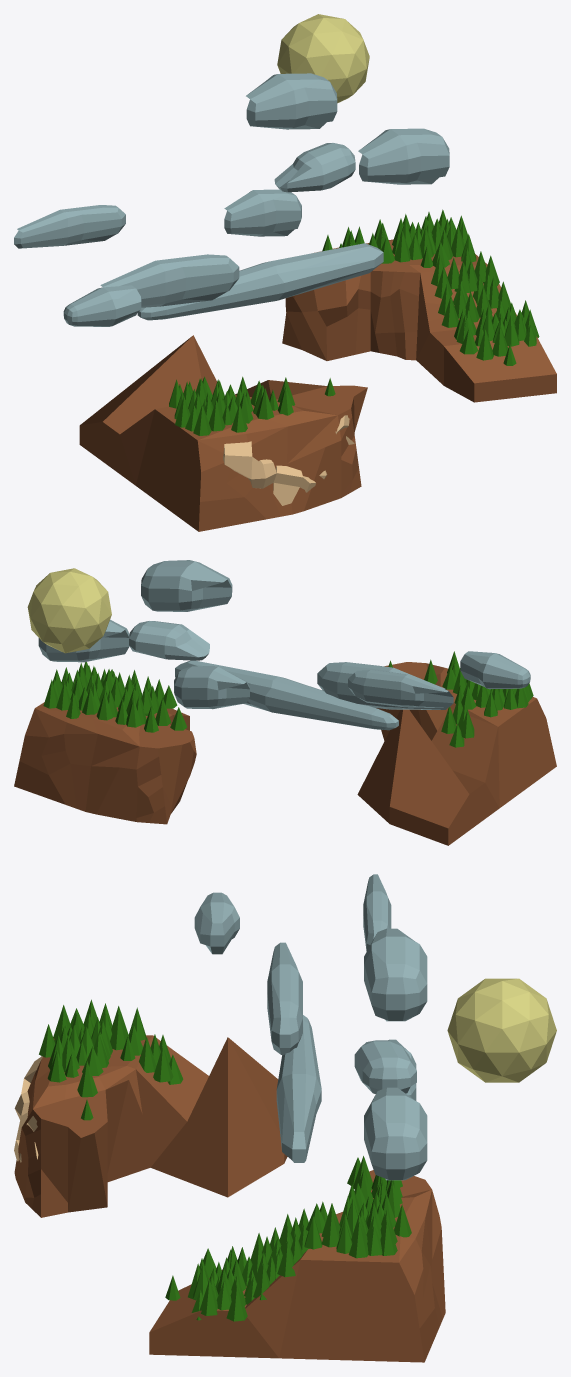
File: MainMenu.fbx
3 views of the same model, one above another, from view 1: azimuth 30°, elevation 25°; view 2: azimuth 150°, elevation 25°; view 3: azimuth 270°, elevation 25° (orthographic). The views are drawn at different scales.
Visible parts, largest first — view 1: Facing Cliff, Background Cliff, Cube.006, Icosphere, Cube.004, Cube.009, Cube.003, Cube.005, Cube.007, Cube.008, Cube, Cube.002; view 2: Facing Cliff, Background Cliff, Icosphere, Cube.006, Cube.009, Cube.005, Cube.007, Cube.008, Cube.002, Cube.004, Cube.003; view 3: Facing Cliff, Background Cliff, Icosphere, Cube.003, Cube.009, Cube.006, Cube.004, Cube.008, Cube.002, Cube.005, Cube.
Part boxes in pixels (box(x1,y1,x2,y2)): Facing Cliff: box(79, 335, 367, 531); Background Cliff: box(282, 239, 556, 402); Cube.006: box(137, 243, 383, 320); Icosphere: box(277, 14, 369, 103); Cube.004: box(100, 254, 239, 307); Cube.009: box(246, 73, 337, 129); Cube.003: box(358, 128, 449, 184); Cube.005: box(14, 205, 125, 248); Cube.007: box(224, 189, 301, 236); Cube.008: box(274, 143, 355, 192); Cube: box(223, 441, 315, 505); Cube.002: box(63, 285, 141, 326); Facing Cliff: box(357, 662, 556, 845); Background Cliff: box(14, 702, 196, 824); Icosphere: box(27, 568, 111, 653); Cube.006: box(175, 660, 398, 730); Cube.009: box(141, 560, 232, 611); Cube.005: box(348, 670, 453, 707); Cube.007: box(174, 666, 249, 709); Cube.008: box(129, 621, 209, 660); Cube.002: box(460, 651, 530, 689); Cube.004: box(317, 662, 447, 709); Cube.003: box(38, 619, 129, 662); Facing Cliff: box(14, 1035, 287, 1217); Background Cliff: box(149, 1170, 445, 1362); Icosphere: box(447, 978, 556, 1082); Cube.003: box(364, 1087, 427, 1180); Cube.009: box(364, 928, 427, 1021); Cube.006: box(276, 1015, 321, 1162); Cube.004: box(267, 942, 302, 1054); Cube.008: box(354, 1040, 416, 1093); Cube.002: box(194, 892, 239, 954); Cube.005: box(363, 874, 391, 951); Cube: box(14, 1056, 42, 1161).
Size of the model in its own units: 3144 by 1814 by 2682.
